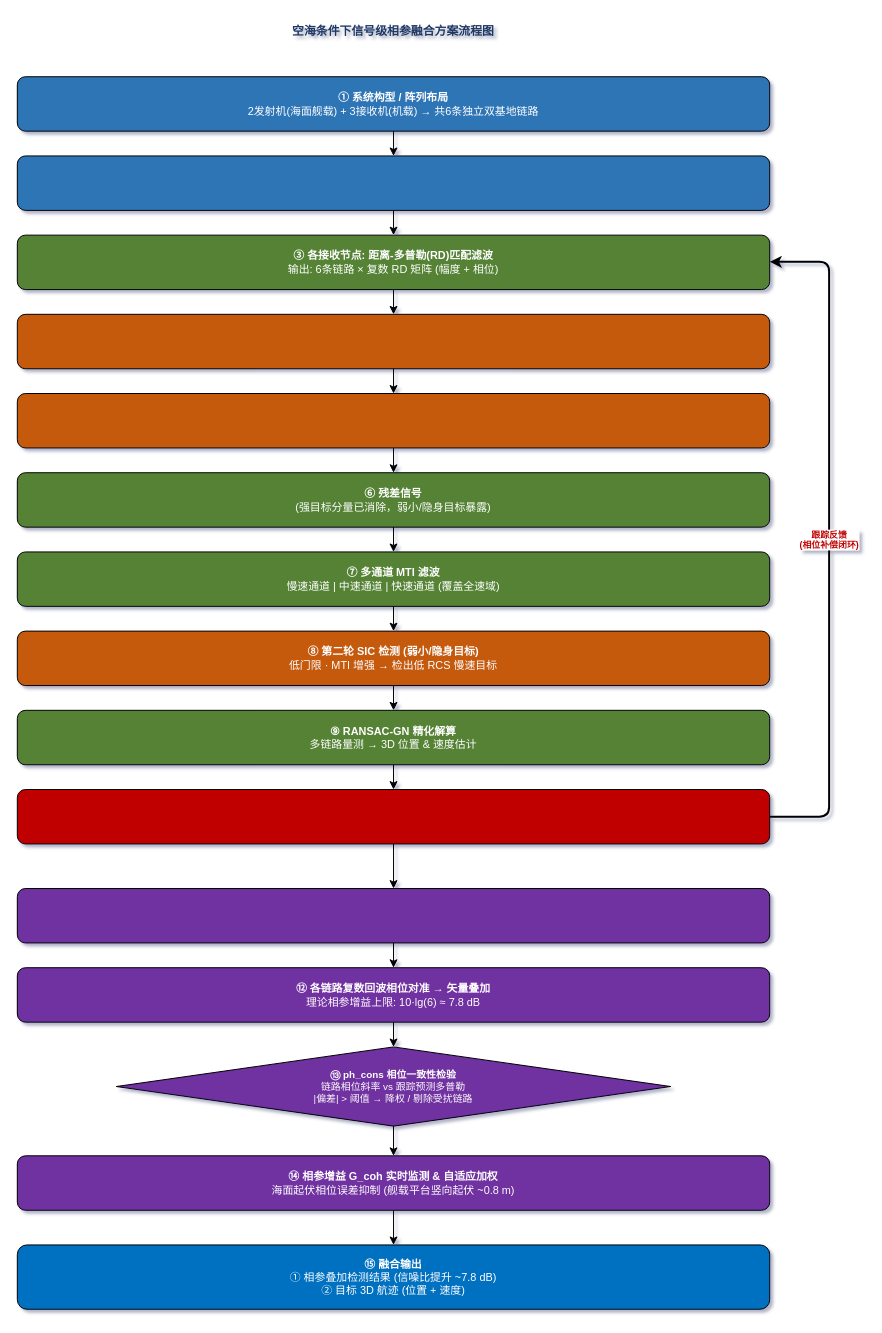
This 882x1333 diagram has some shape labels left out. The shapes that lost their labels are listed below. From the top down, each one's centre as x and y in pixels, then its label:
(x=393, y=182): ② OFDM 频分复用 奇子载波→发射机1 偶子载波→发射机2 (同频干扰为零)
(x=393, y=341): ④ 第一轮 SIC 检测 (强目标) 无 MTI · 高门限 → 检测出强散射 / 大 RCS 目标
(x=393, y=420): ⑤ 强目标回波重建 & 顺序干扰消除 (SIC) 从各链路合成信号中逐一减去强目标贡献
(x=393, y=816): ⑩ 3槽 Kalman 跟踪器 输出: 目标航迹 (精确位置估计) → 反馈至相参融合环
(x=393, y=915): ⑪ 双基地时延 τ_l 计算 & 相位补偿因子 exp(−j·2π·f_c·τ_l) (由跟踪位置驱动)
